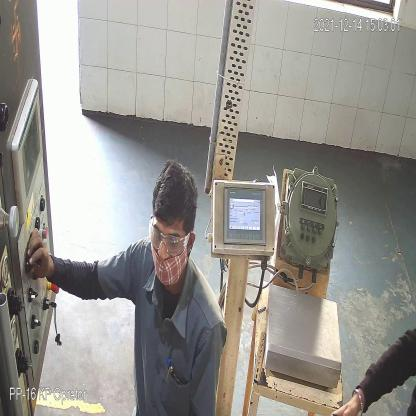goggles: (151, 223, 193, 253)
